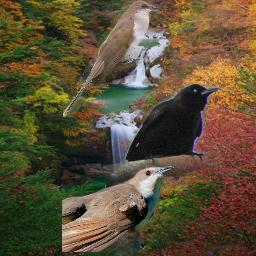Crow: (105, 84, 220, 197)
Cuckoo: (63, 0, 163, 117), (62, 166, 174, 252)
